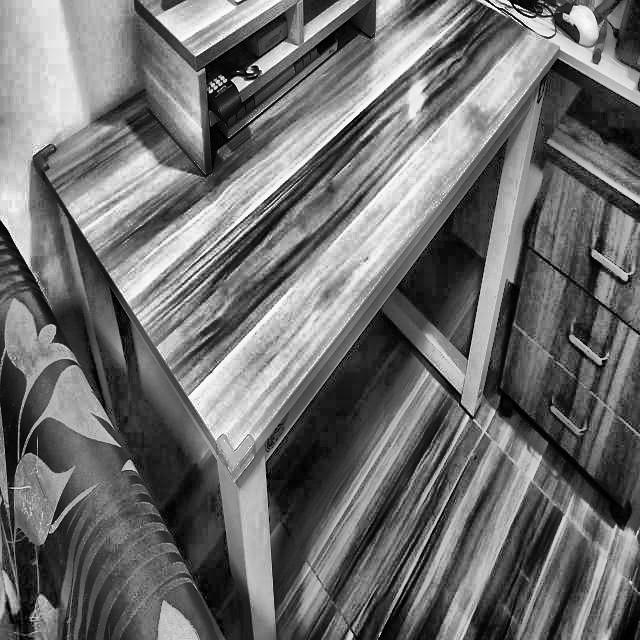mesa: (33, 0, 556, 640)
